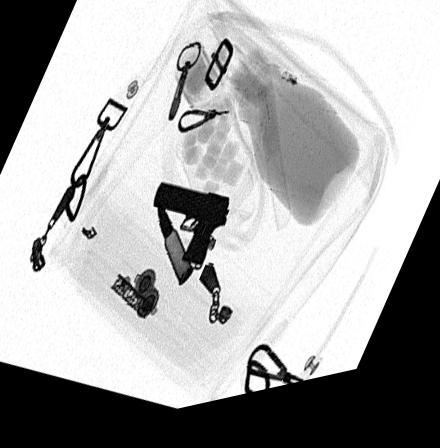Bullet: (156, 209, 193, 295)
Gun: (150, 190, 229, 273)
